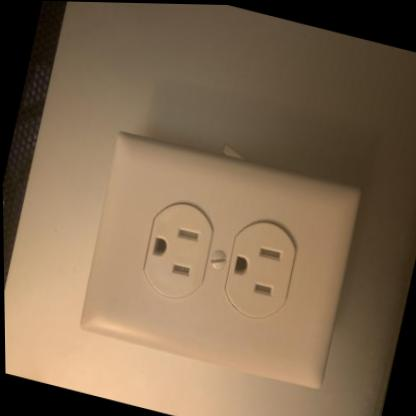OUTLET: (72, 125, 371, 393)
